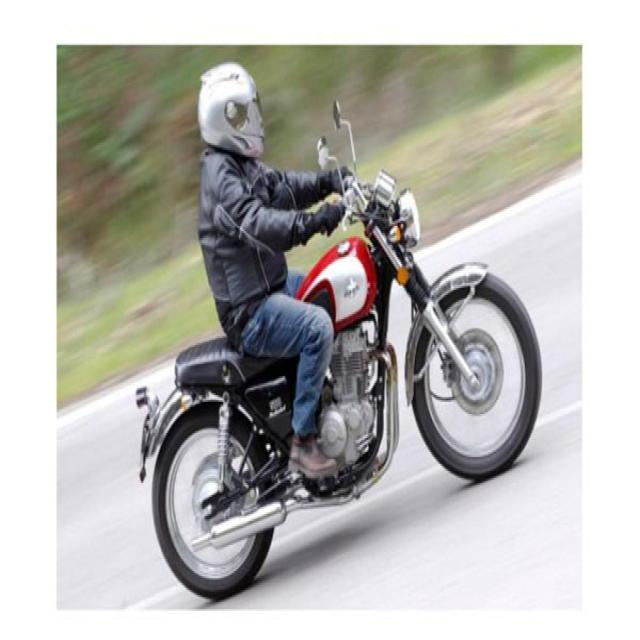MOTORCYCLE: (142, 184, 540, 604)
